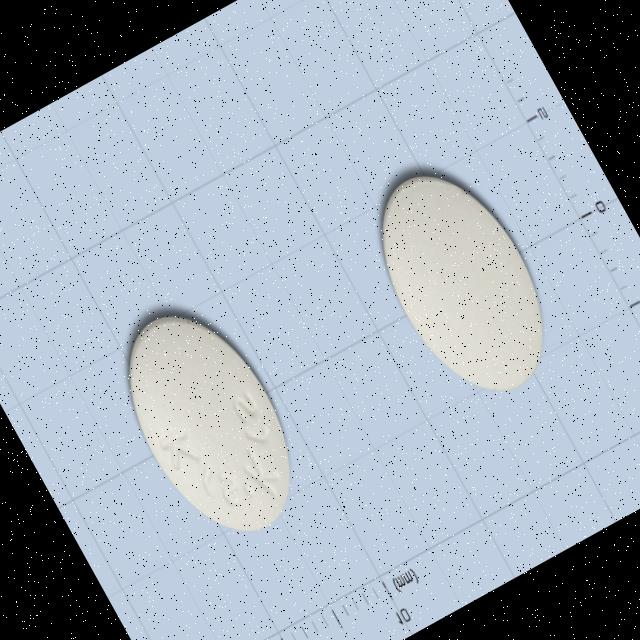Korus Ascorbic Acid: (94, 286, 326, 560), (350, 148, 578, 418)
